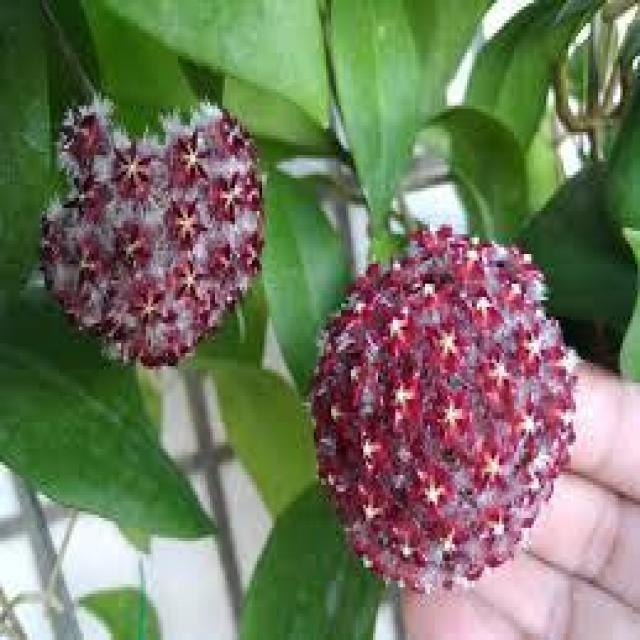organic waste: (295, 220, 597, 586), (44, 79, 272, 370)
